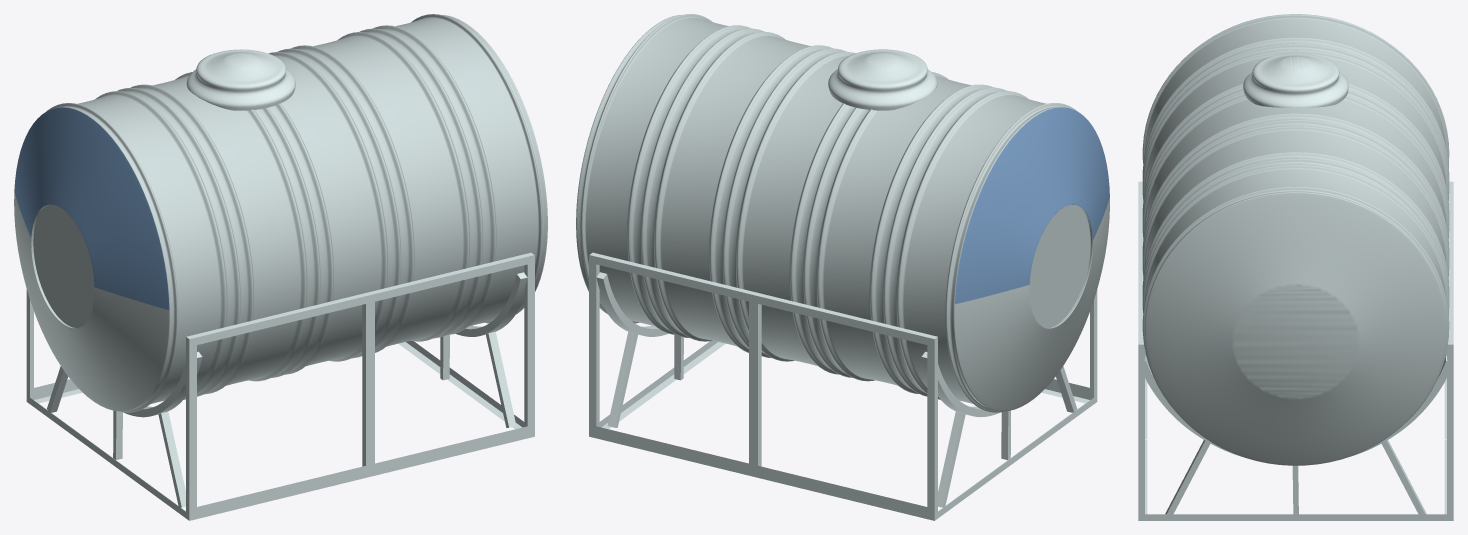
File: water_tank.glb
The picture shows the model from 3 angles, left to right: view 1: azimuth 30°, elevation 25°; view 2: azimuth 150°, elevation 25°; view 3: azimuth 270°, elevation 25°; orthographic projection. The views are drawn at different scales.
Visible parts, largest first — view 1: water_tank_1, Base_stand, Neck_Cover_1; view 2: water_tank_1, Base_stand, Neck_Cover_1; view 3: water_tank_1, Base_stand, Neck_Cover_1.
Boxes of the visible parts, bbox=[...] form: water_tank_1: bbox=[14, 14, 547, 412]; Base_stand: bbox=[26, 252, 534, 520]; Neck_Cover_1: bbox=[186, 49, 295, 110]; water_tank_1: bbox=[576, 14, 1109, 412]; Base_stand: bbox=[589, 252, 1097, 520]; Neck_Cover_1: bbox=[828, 49, 937, 110]; water_tank_1: bbox=[1142, 14, 1449, 465]; Base_stand: bbox=[1138, 181, 1453, 520]; Neck_Cover_1: bbox=[1243, 53, 1348, 107].
Bounding box in the file's own units: 6.27 × 5.11 × 4.07.
